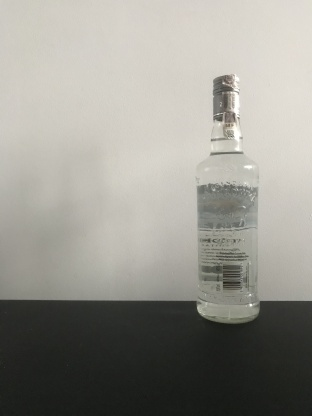nakretka: (211, 72, 242, 122)
